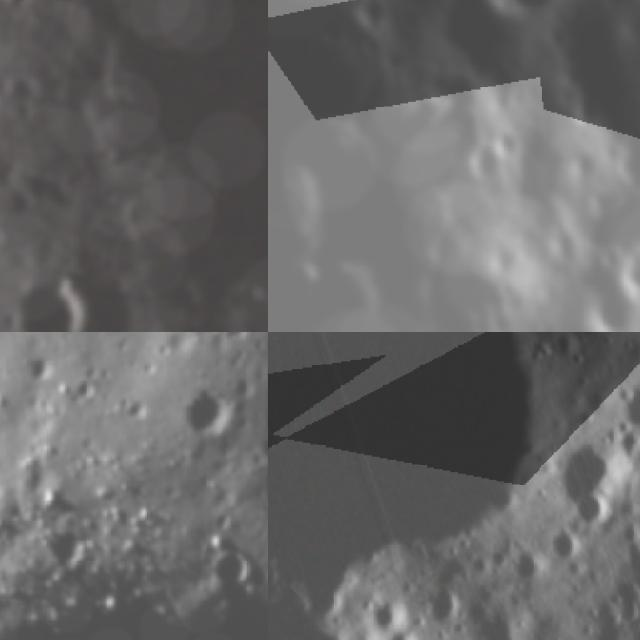crater: (6, 0, 268, 323), (268, 332, 577, 590), (268, 492, 532, 640), (551, 422, 640, 507), (0, 261, 92, 332), (170, 378, 238, 440), (492, 538, 553, 596), (360, 583, 417, 640), (472, 0, 575, 28), (582, 283, 640, 332), (542, 514, 594, 566), (422, 584, 474, 636), (466, 133, 516, 186), (217, 283, 268, 332), (348, 0, 402, 43), (208, 538, 254, 588), (48, 522, 99, 564), (613, 371, 640, 443), (596, 240, 630, 278), (5, 97, 40, 131), (378, 617, 429, 640)
